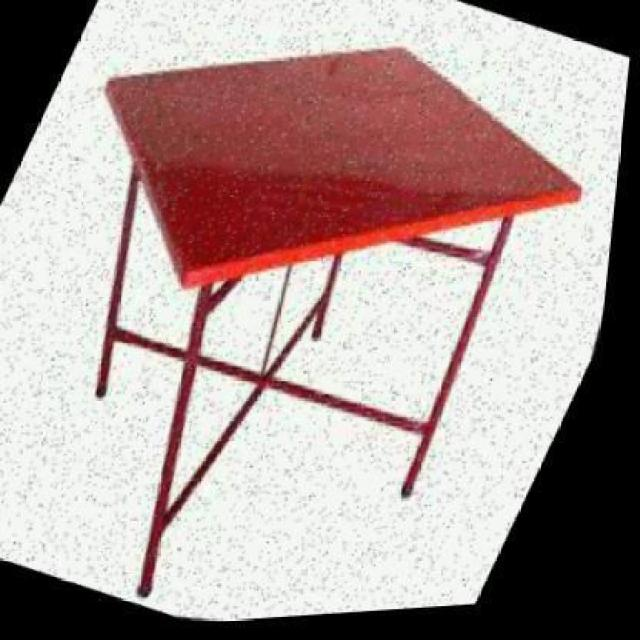tables: (93, 43, 582, 597)
